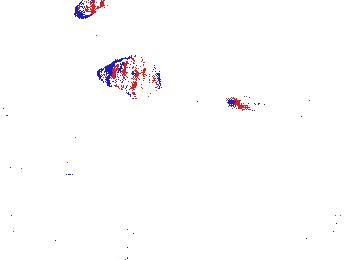X-ray fish: (96, 46, 165, 97), (74, 1, 106, 21)
red belly glassfish: (223, 94, 261, 112), (151, 98, 165, 114)
redtail glassfish: (195, 4, 274, 40), (288, 82, 346, 123), (302, 19, 346, 53)
